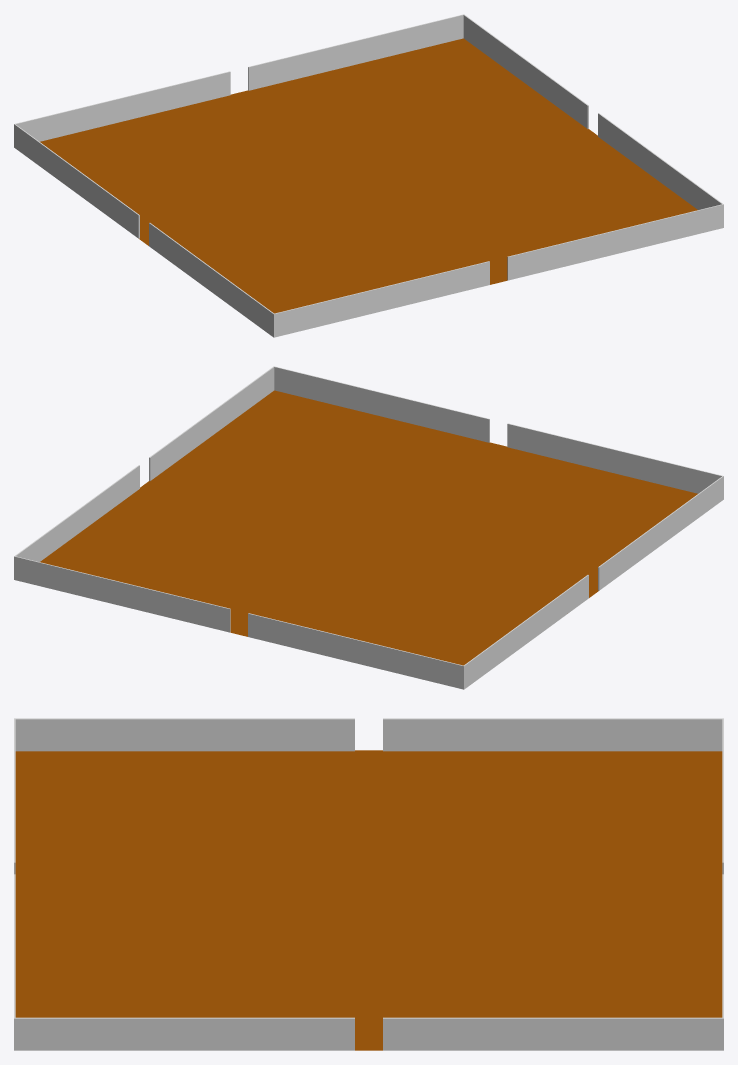
File: TestFloorNew1.fbx
The picture shows the model from 3 angles, top to bottom: view 1: azimuth 30°, elevation 25°; view 2: azimuth 150°, elevation 25°; view 3: azimuth 270°, elevation 25°; orthographic projection. The views are drawn at different scales.
Visible parts, largest first — view 1: Floor, Cube.002, Cube.004, Cube.001, Cube.003; view 2: Floor, Cube.001, Cube.003, Cube.002, Cube.004; view 3: Floor, Cube.003, Cube.004, Cube.001, Cube.002.
Boxes of the visible parts, left/top/right/bottom form: Floor: left=40, top=38, right=697, bottom=313; Cube.002: left=149, top=223, right=489, bottom=337; Cube.004: left=248, top=14, right=588, bottom=128; Cube.001: left=14, top=71, right=230, bottom=238; Cube.003: left=507, top=113, right=723, bottom=280; Floor: left=40, top=390, right=697, bottom=665; Cube.001: left=248, top=575, right=588, bottom=689; Cube.003: left=149, top=366, right=489, bottom=480; Cube.002: left=507, top=423, right=723, bottom=590; Cube.004: left=14, top=465, right=230, bottom=632; Floor: left=15, top=750, right=722, bottom=1050; Cube.003: left=14, top=874, right=354, bottom=1050; Cube.004: left=383, top=874, right=723, bottom=1050; Cube.001: left=383, top=718, right=723, bottom=874; Cube.002: left=14, top=718, right=354, bottom=874.
Bounding box in the file's own units: 5024 × 250 × 5024.
